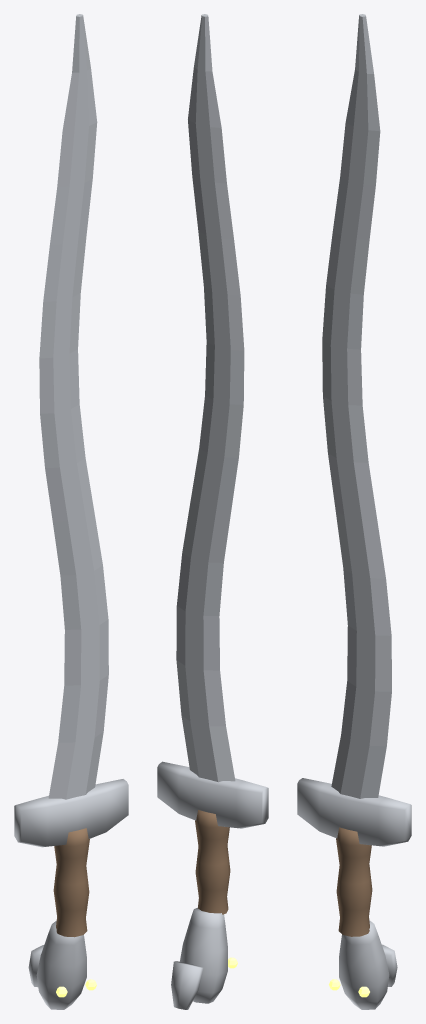
The model's file is wpn_serpent.glb.
The picture shows the model from 3 angles, left to right: view 1: azimuth 30°, elevation 25°; view 2: azimuth 150°, elevation 25°; view 3: azimuth 330°, elevation 25°; orthographic projection. The views are drawn at different scales.
Visible parts, largest first — view 1: wpn_serpent; view 2: wpn_serpent; view 3: wpn_serpent.
Boxes of the visible parts, x1=… form: wpn_serpent: x1=14, y1=14, x2=128, y2=1009; wpn_serpent: x1=157, y1=14, x2=268, y2=1009; wpn_serpent: x1=297, y1=14, x2=411, y2=1009.
Bounding box in the file's own units: 0.124 × 1.1 × 0.0886.
